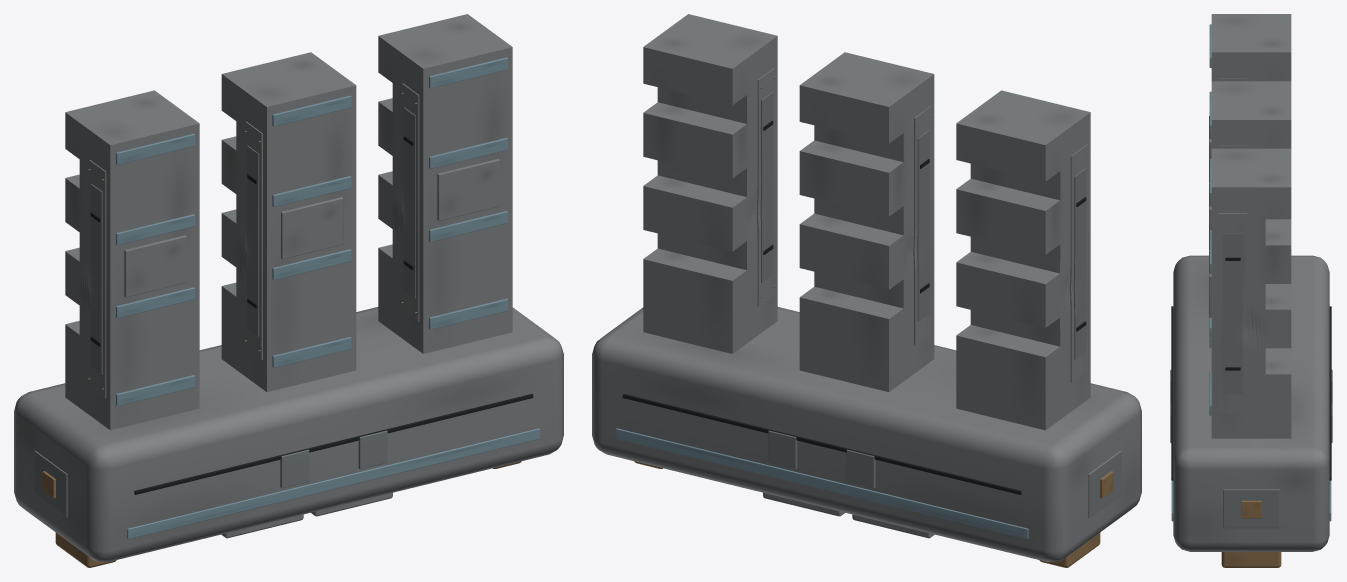
The picture shows the model from 3 angles, left to right: view 1: azimuth 30°, elevation 25°; view 2: azimuth 150°, elevation 25°; view 3: azimuth 270°, elevation 25°; orthographic projection. The views are drawn at different scales.
Parts seen in each view (by area): view 1: Transport lower housing, Transport tower 0, Transport tower 1, Transport tower -1, Transport lower blue trim -1, Transport rear service plate 0, Transport rear service plate -1, Transport rear service plate 1, Transport tower inset 0 -1, Transport tower inset -1 -1, Transport tower inset 1 -1, Transport tower frame -1 -1 (+18 smaller); view 2: Transport lower housing, Transport tower 0, Transport tower -1, Transport tower 1, Transport lower blue trim 1, Transport tower inset 1 -1, Transport tower inset -1 -1, Transport tower inset 0 -1, Transport tower frame -1 -1, Transport tower frame 0 -1, Transport tower frame 1 -1, Transport long dark seam 1 (+3 smaller); view 3: Transport lower housing, Transport tower 1, Transport tower 0, Transport tower -1, Transport tower inset 1 1, Transport tower frame 1 1, Transport end inset 1, Transport warm lower foot 1, Transport long dark seam -1, Transport long dark seam 1, Transport end warm detail 1.
Part boxes in pixels (bbox=[...]): Transport lower housing: bbox=[14, 307, 563, 562]; Transport tower 0: bbox=[221, 52, 356, 391]; Transport tower 1: bbox=[378, 14, 512, 353]; Transport tower -1: bbox=[65, 90, 199, 430]; Transport lower blue trim -1: bbox=[127, 428, 539, 539]; Transport rear service plate 0: bbox=[281, 197, 343, 259]; Transport rear service plate -1: bbox=[124, 235, 186, 297]; Transport rear service plate 1: bbox=[437, 159, 499, 220]; Transport tower inset 0 -1: bbox=[247, 145, 259, 336]; Transport tower inset -1 -1: bbox=[90, 183, 102, 374]; Transport tower inset 1 -1: bbox=[403, 107, 415, 298]; Transport tower frame -1 -1: bbox=[89, 160, 106, 398]; Transport lower housing: bbox=[592, 307, 1141, 562]; Transport tower 0: bbox=[799, 52, 934, 391]; Transport tower -1: bbox=[956, 90, 1090, 430]; Transport tower 1: bbox=[643, 14, 777, 353]; Transport lower blue trim 1: bbox=[616, 428, 1028, 539]; Transport tower inset 1 -1: bbox=[760, 92, 773, 282]; Transport tower inset -1 -1: bbox=[1073, 168, 1086, 359]; Transport tower inset 0 -1: bbox=[917, 130, 929, 321]; Transport tower frame -1 -1: bbox=[1070, 144, 1087, 382]; Transport tower frame 0 -1: bbox=[913, 106, 931, 344]; Transport tower frame 1 -1: bbox=[757, 68, 774, 306]; Transport long dark seam 1: bbox=[622, 394, 1021, 494]; Transport lower housing: bbox=[1173, 255, 1329, 551]; Transport tower 1: bbox=[1211, 148, 1291, 438]; Transport tower 0: bbox=[1211, 81, 1291, 148]; Transport tower -1: bbox=[1211, 14, 1291, 81]; Transport tower inset 1 1: bbox=[1223, 233, 1242, 394]; Transport tower frame 1 1: bbox=[1218, 213, 1247, 413]; Transport end inset 1: bbox=[1223, 489, 1279, 528]; Transport warm lower foot 1: bbox=[1221, 552, 1281, 567]; Transport long dark seam -1: bbox=[1171, 306, 1173, 480]; Transport long dark seam 1: bbox=[1329, 306, 1331, 480]; Transport end warm detail 1: bbox=[1241, 500, 1261, 518].
Size of the model in its own units: 3.45 by 2.9 by 1.14.
5 materials, 3 textured.
